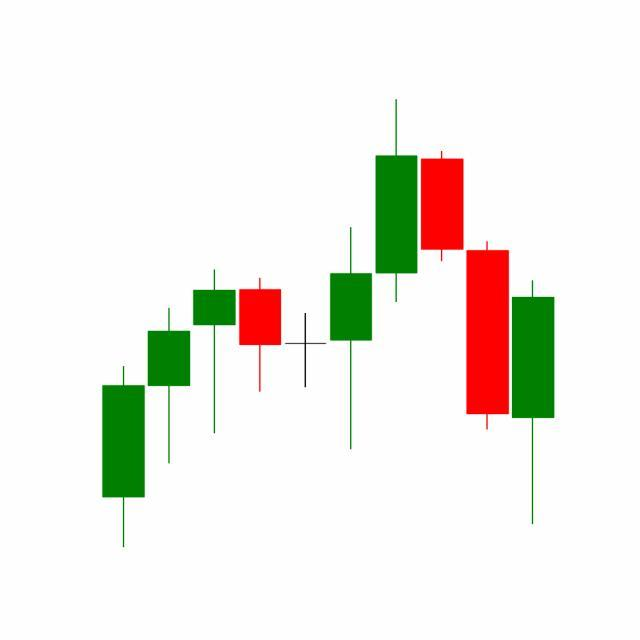Hikkake Pattern: (283, 99, 512, 454)
